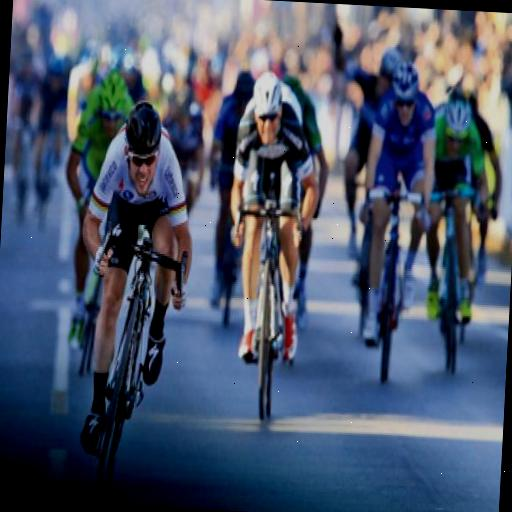helmet: (68, 83, 202, 470), (212, 58, 329, 433)
